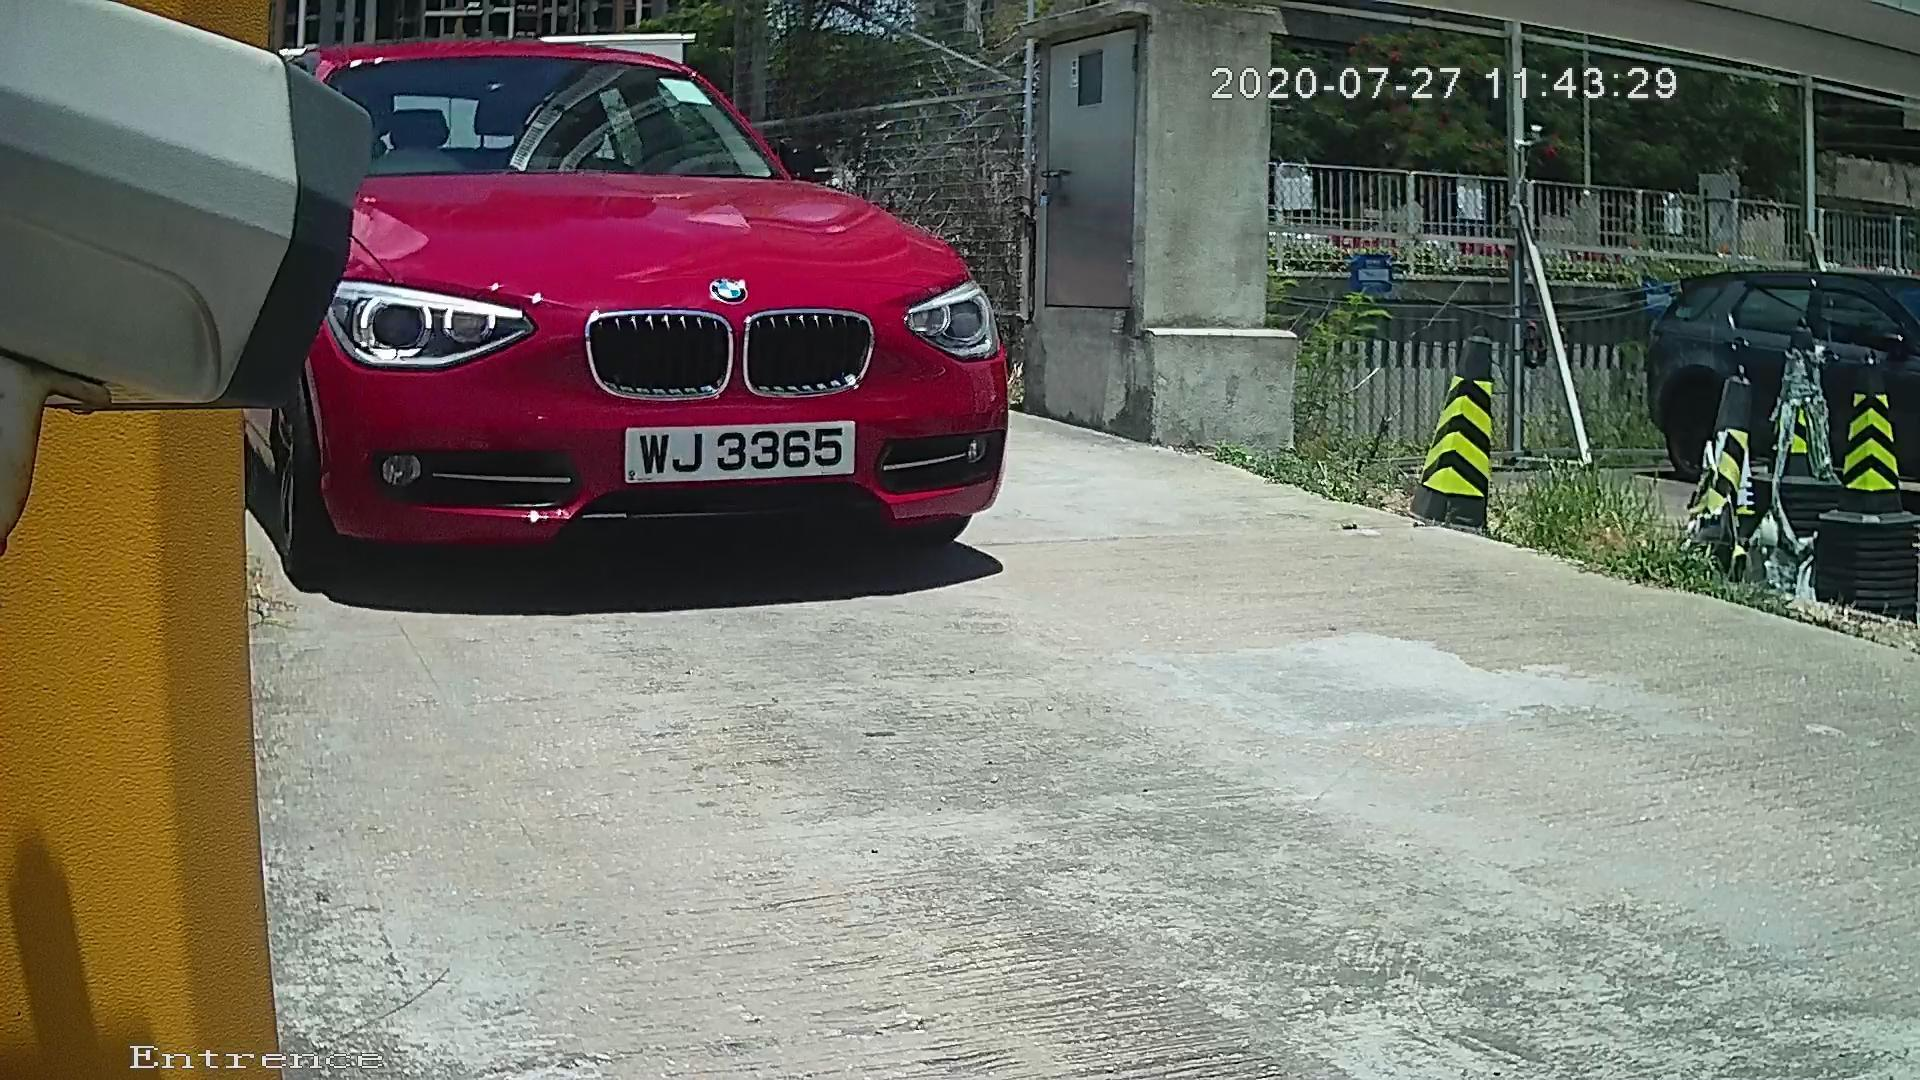License Plate: (592, 406, 866, 487)
